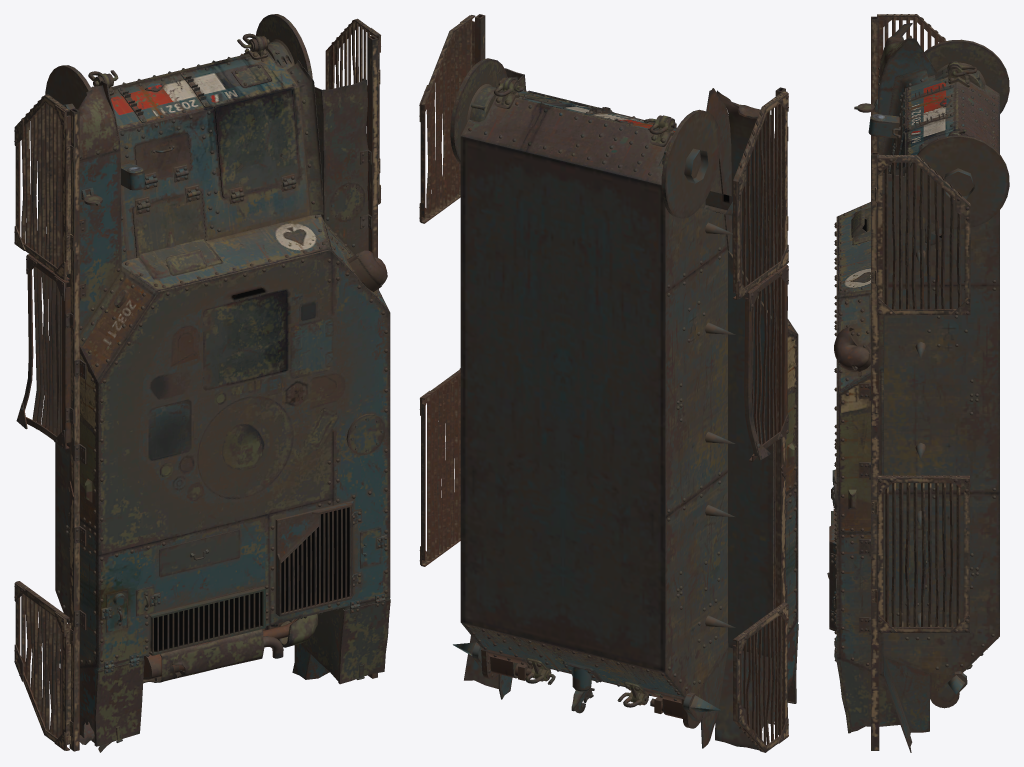
The model's file is Hull_01.glb.
3 renders of one model, left to right at view 1: azimuth 30°, elevation 25°; view 2: azimuth 150°, elevation 25°; view 3: azimuth 270°, elevation 25°, orthographic. The views are drawn at different scales.
Parts seen in each view (by area): view 1: set_0_group_0, set_0_group_1; view 2: set_0_group_0, set_0_group_1; view 3: set_0_group_0, set_0_group_1.
Part boxes in pixels (box(x1,y1,x2,y2)): set_0_group_0: box(45, 14, 390, 752); set_0_group_1: box(14, 18, 380, 751); set_0_group_0: box(450, 58, 798, 750); set_0_group_1: box(419, 14, 788, 752); set_0_group_0: box(827, 23, 1009, 752); set_0_group_1: box(871, 14, 970, 750).
Size of the model in its own units: 2.4 by 4.52 by 1.24.
Materials: 2 (2 with a texture image).
